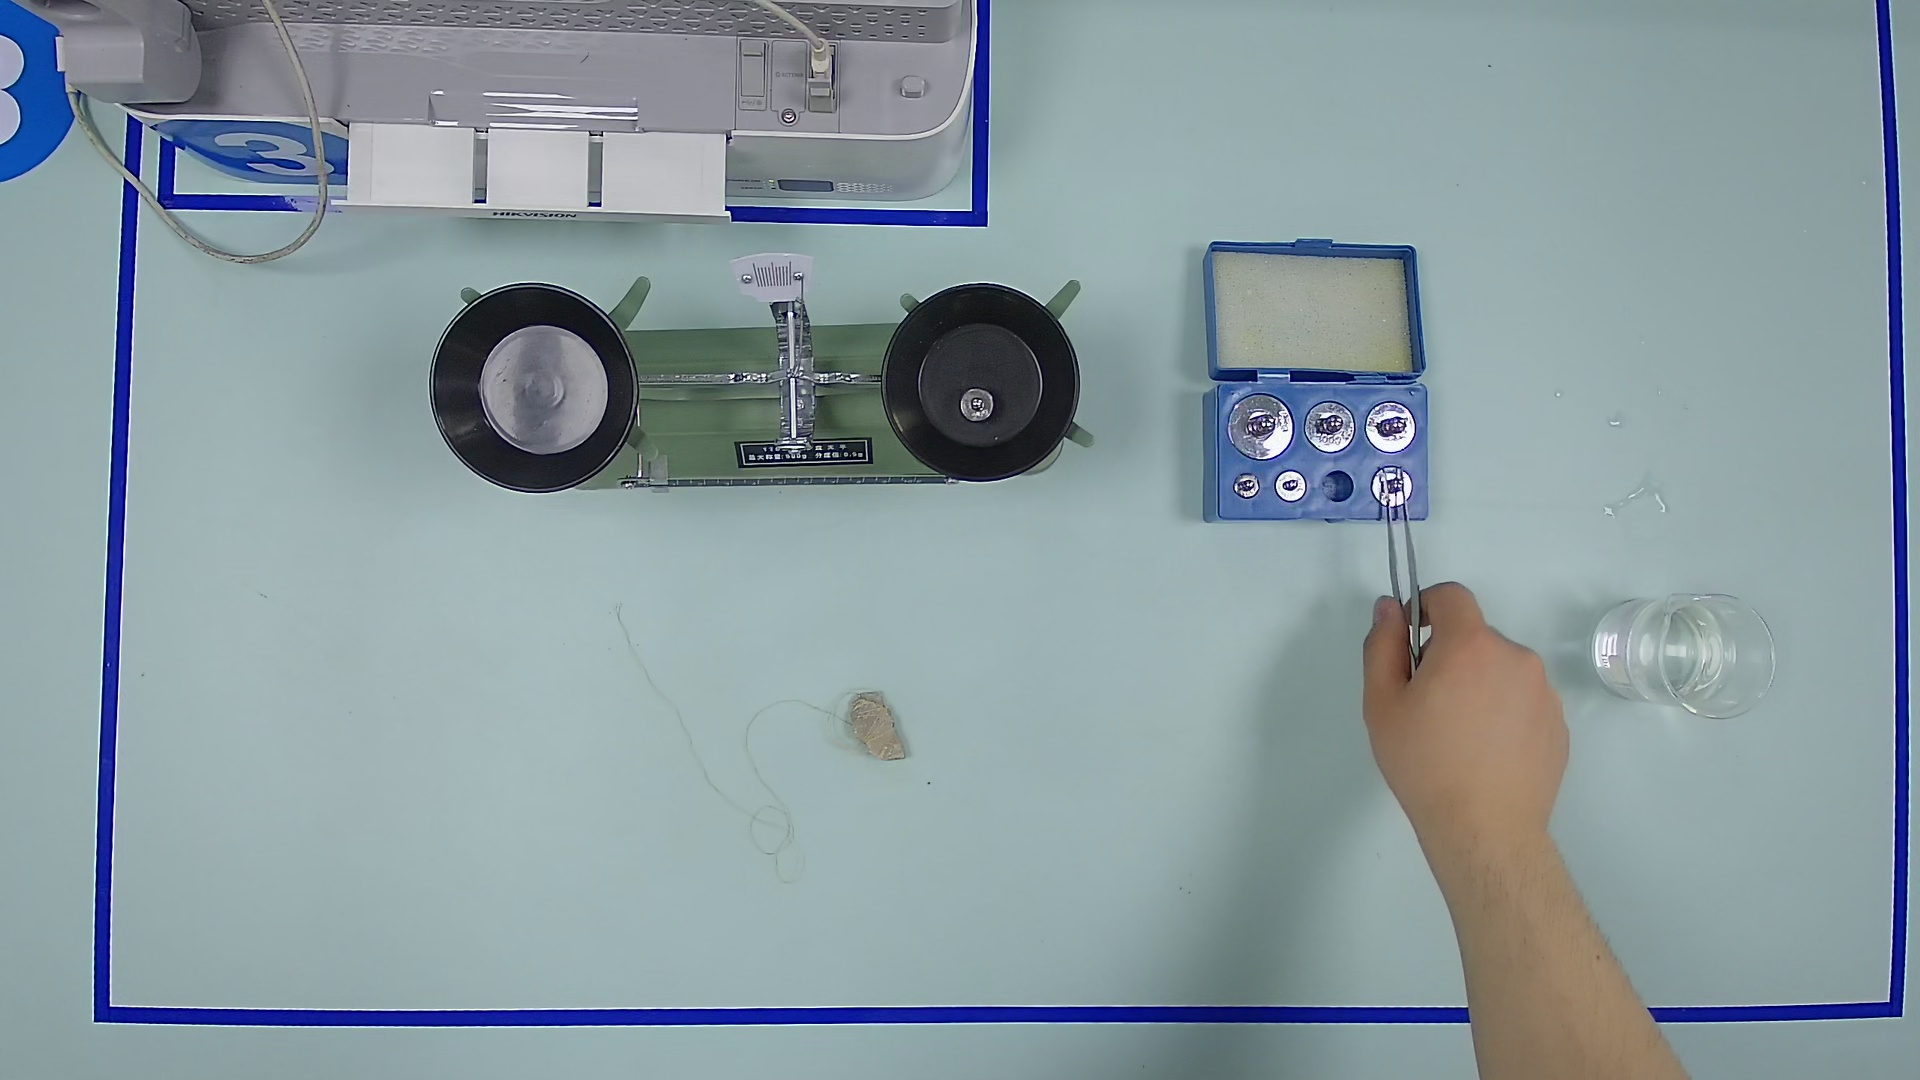bei: (1578, 576, 1787, 736)
fama: (1226, 390, 1295, 462), (1302, 397, 1357, 458), (1365, 398, 1418, 454), (1370, 464, 1416, 510), (957, 386, 996, 425), (1273, 471, 1308, 505), (1232, 471, 1259, 502)
gan: (608, 448, 947, 516)
hand: (1324, 567, 1597, 836)
he: (1160, 338, 1482, 547)
niezi: (1371, 468, 1465, 683)
pointer: (735, 249, 811, 299)
shi: (835, 684, 923, 771)
tuo: (413, 266, 658, 513), (862, 262, 1105, 506)
you: (642, 452, 676, 500)
